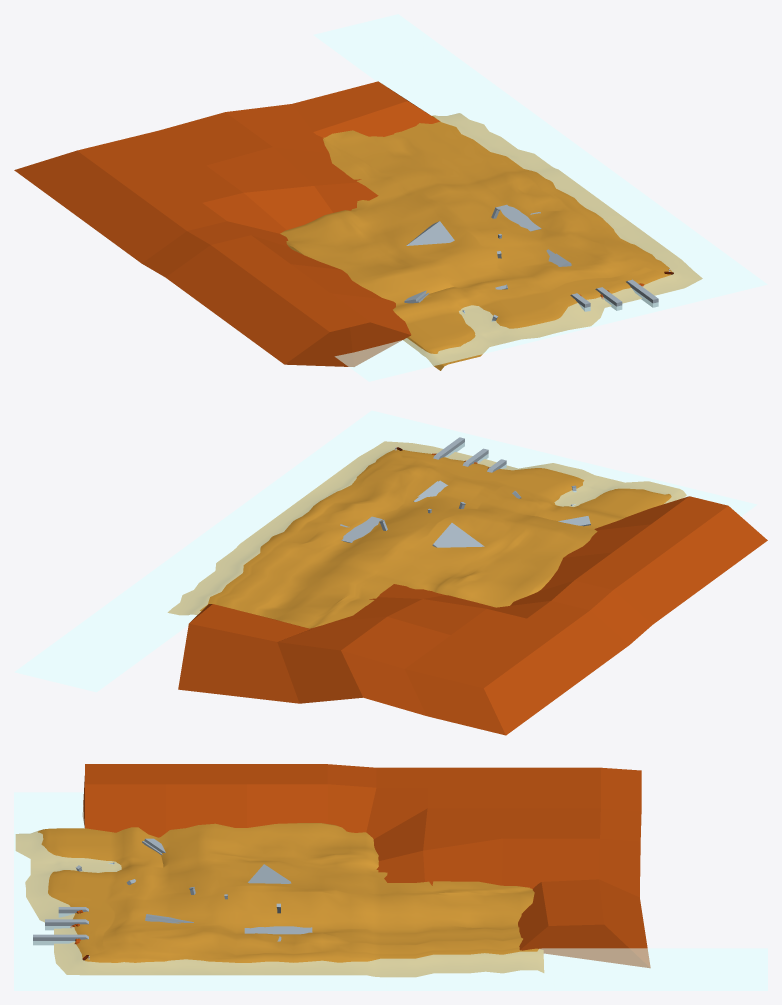
File: The_Island_Draft.fbx
3 views of the same model, one above another, from view 1: azimuth 30°, elevation 25°; view 2: azimuth 150°, elevation 25°; view 3: azimuth 270°, elevation 25° (orthographic). The views are drawn at different scales.
Parts seen in each view (by area): view 1: StartPoint_Player0, WaterChunk_Area=Start; view 2: StartPoint_Player0, WaterChunk_Area=Start; view 3: StartPoint_Player0, WaterChunk_Area=Start.
Part boxes in pixels (x1,y1,x2,y2): StartPoint_Player0: (14, 81, 702, 370); WaterChunk_Area=Start: (313, 14, 767, 381); StartPoint_Player0: (168, 437, 767, 735); WaterChunk_Area=Start: (14, 410, 757, 692); StartPoint_Player0: (15, 764, 650, 977); WaterChunk_Area=Start: (14, 792, 767, 990).
Bounding box in the file's own units: 2162 × 269 × 3100.
